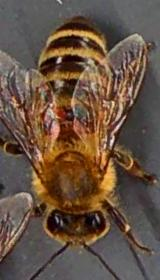varroa_mite: (44, 98, 68, 123)
